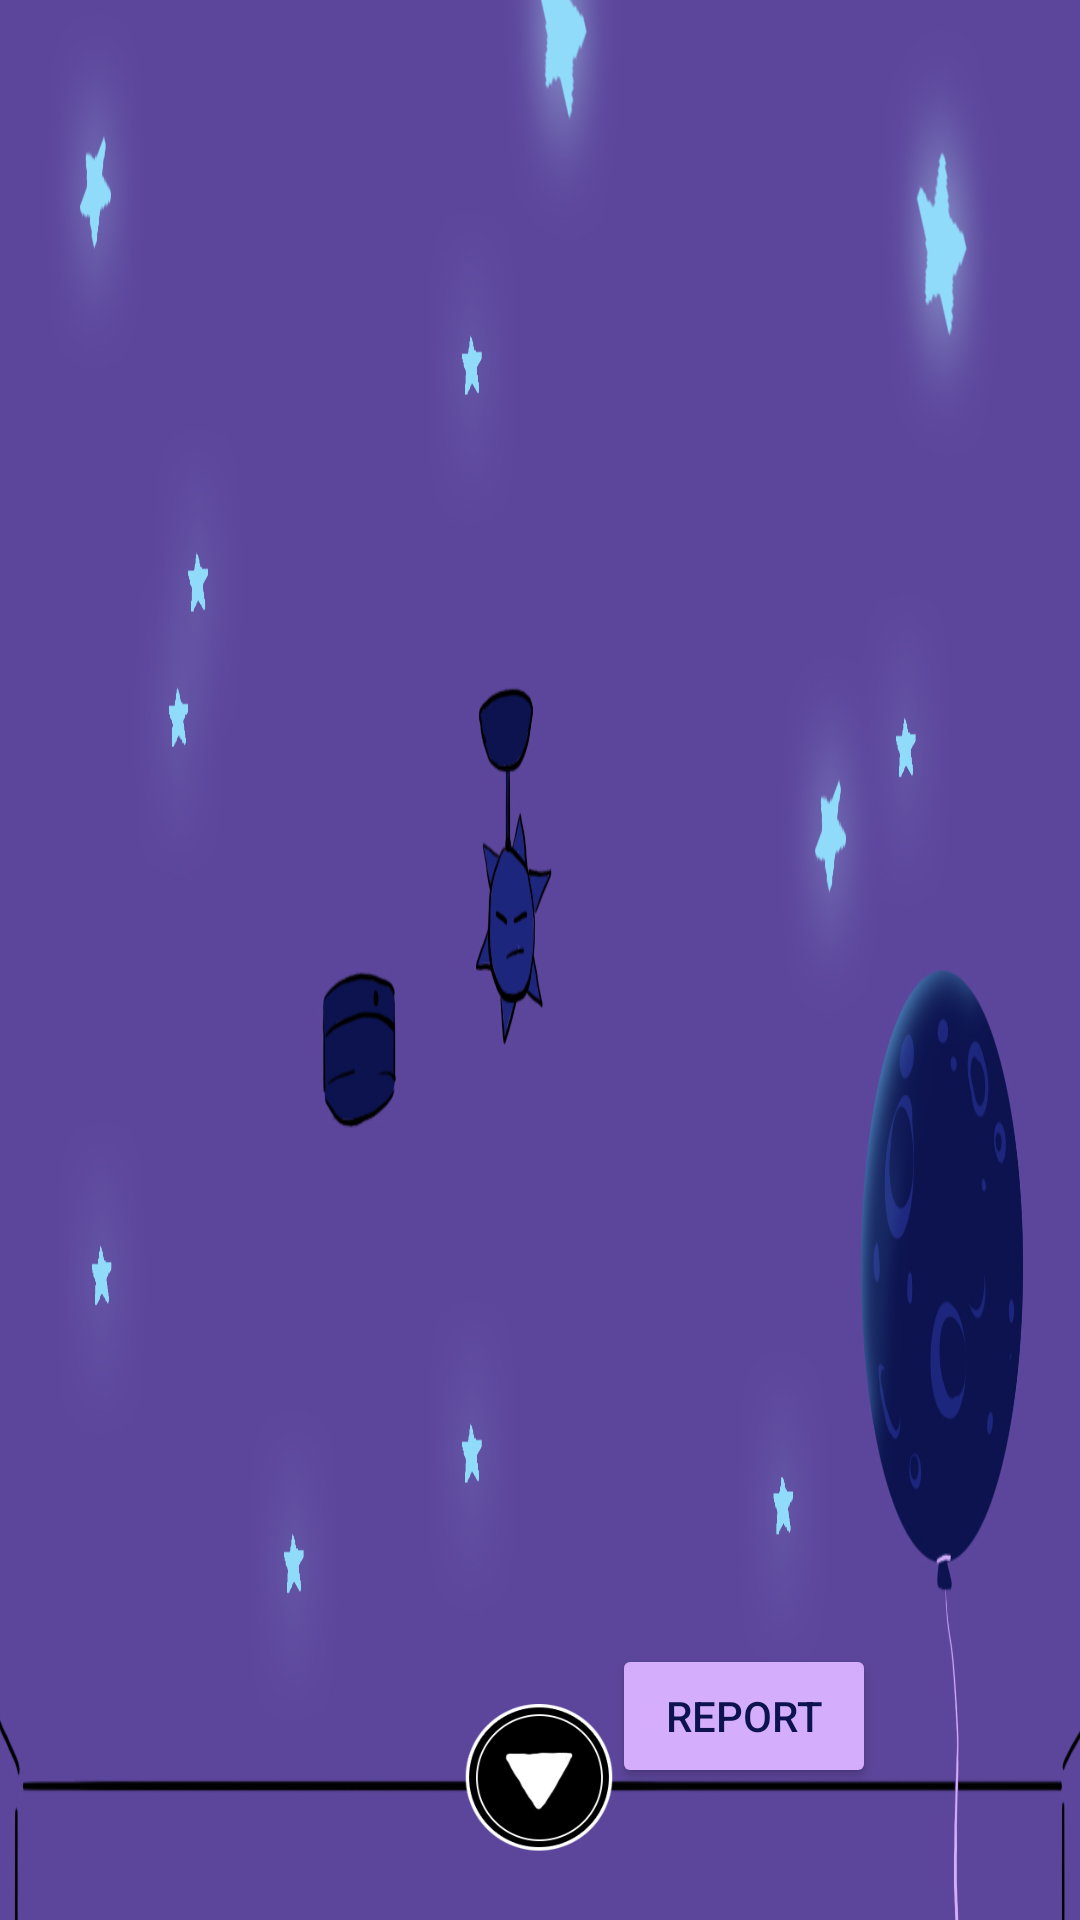

Where to tap for icons on this 1080*1920 app screen, as point (x, y):
down: point (539, 1756)
